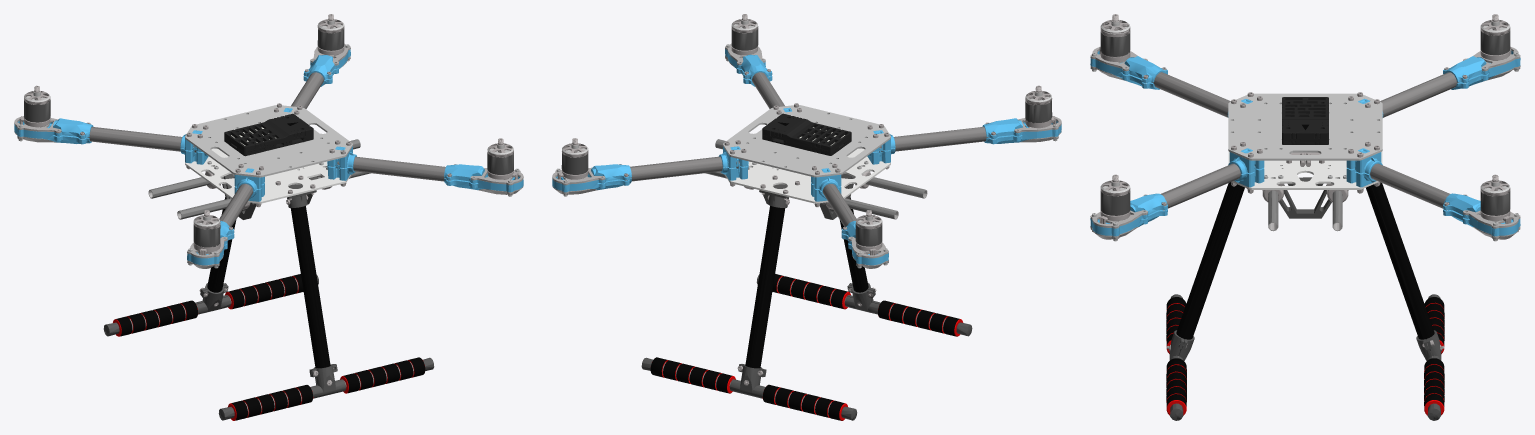
File: uav_frame_x500.dae
3 views of the same model, side by side, from view 1: azimuth 30°, elevation 25°; view 2: azimuth 150°, elevation 25°; view 3: azimuth 270°, elevation 25° (orthographic). The views are drawn at different scales.
Visible parts, largest first — view 1: x500_frame_corrected; view 2: x500_frame_corrected; view 3: x500_frame_corrected.
Part boxes in pixels (x1,y1,x2,y2): x500_frame_corrected: (14, 14, 523, 420); x500_frame_corrected: (552, 14, 1061, 420); x500_frame_corrected: (1090, 14, 1520, 420).
Size of the model in its own units: 0.4006 by 0.4006 by 0.2788.
